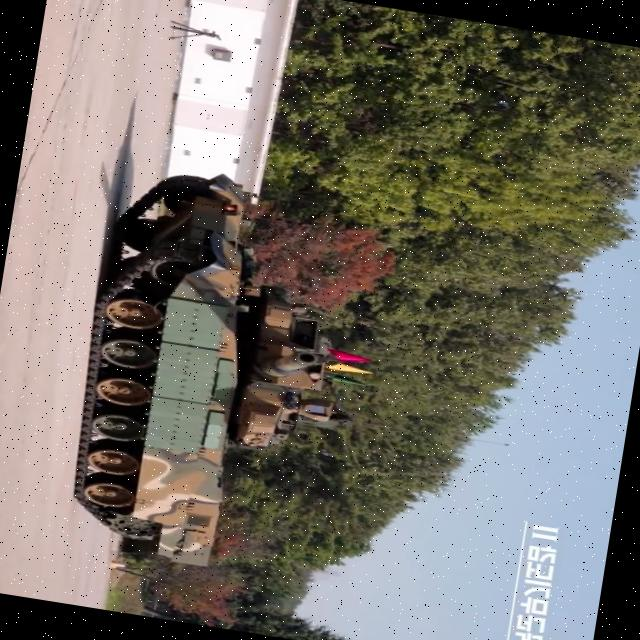korea tank: (51, 155, 391, 588)
